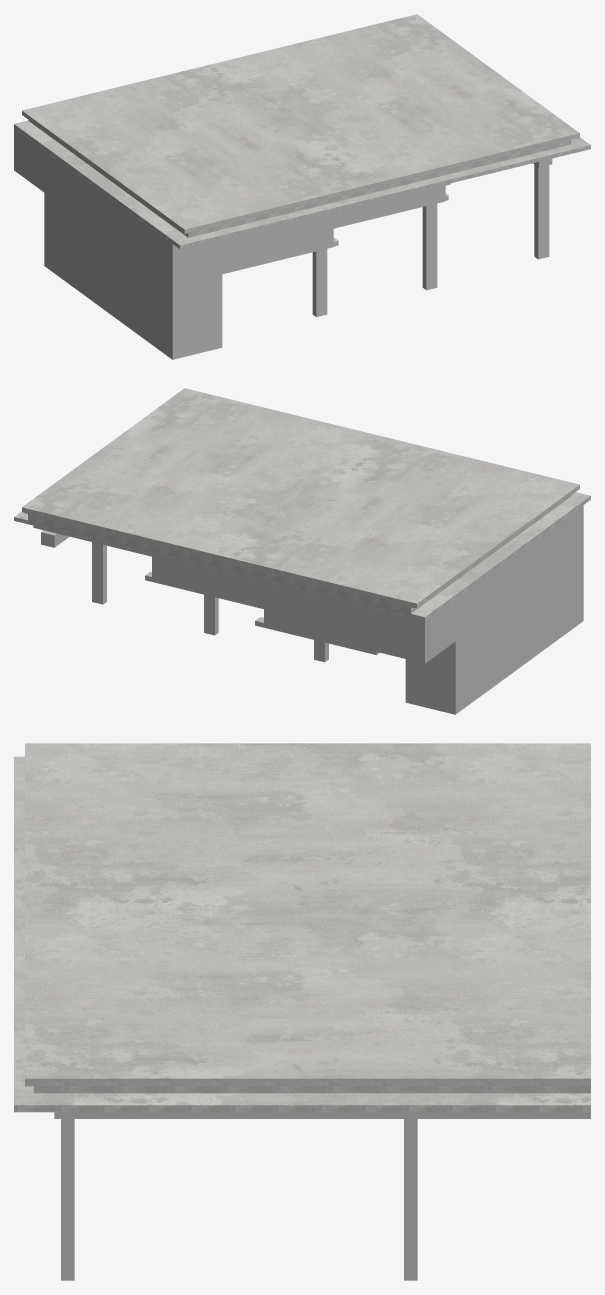
File: LargeHall.fbx
3 renders of one model, top to bottom at view 1: azimuth 30°, elevation 25°; view 2: azimuth 150°, elevation 25°; view 3: azimuth 270°, elevation 25°, orthographic. The views are drawn at different scales.
Parts seen in each view (by area): view 1: pCube157, pCube154, pCube149, pCube150, pCube151; view 2: pCube157, pCube154, pCube161, pCube160, pCube164, pCube163; view 3: pCube157, pCube152, pCube149, pCube161.
Part boxes in pixels (x1,y1,x2,y2): pCube157: [14, 14, 590, 249]; pCube154: [14, 128, 445, 359]; pCube149: [534, 164, 549, 259]; pCube150: [422, 203, 437, 290]; pCube151: [312, 249, 327, 316]; pCube157: [14, 388, 590, 620]; pCube154: [152, 505, 583, 714]; pCube161: [92, 542, 106, 604]; pCube160: [204, 594, 218, 635]; pCube164: [255, 617, 379, 654]; pCube163: [145, 571, 263, 608]; pCube157: [14, 743, 590, 1112]; pCube152: [54, 1112, 590, 1118]; pCube149: [61, 1119, 74, 1280]; pCube161: [404, 1119, 417, 1280].
Bounding box in the file's own units: 162 × 49.56 × 113.
